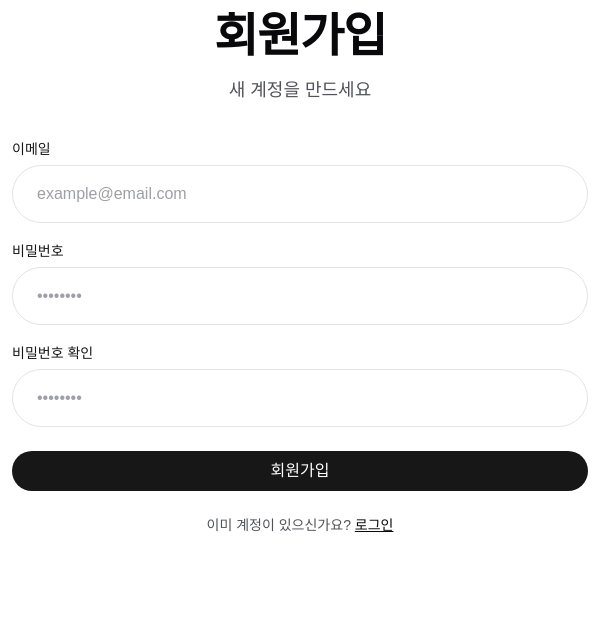
SignupForm › Validation - Invalid Email › should show error for empty email
Click the button "회원가입" at (300, 471), box [12,451,588,491]
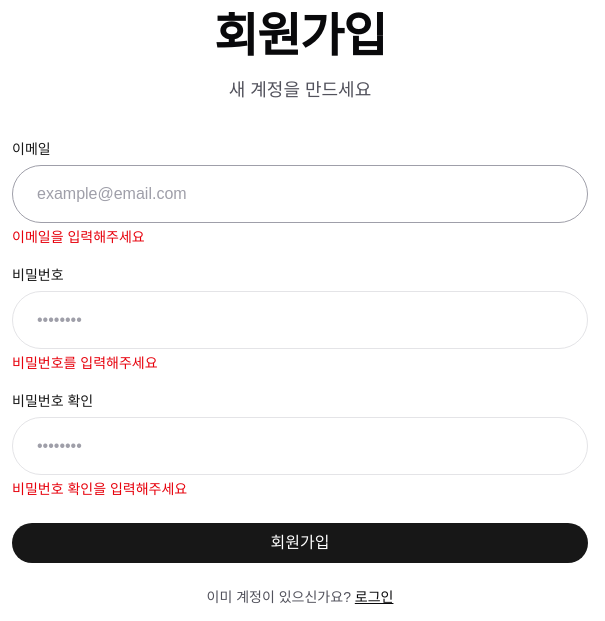
Check: the text "이메일을 입력해주세요" is shown, box [12,229,145,245]
